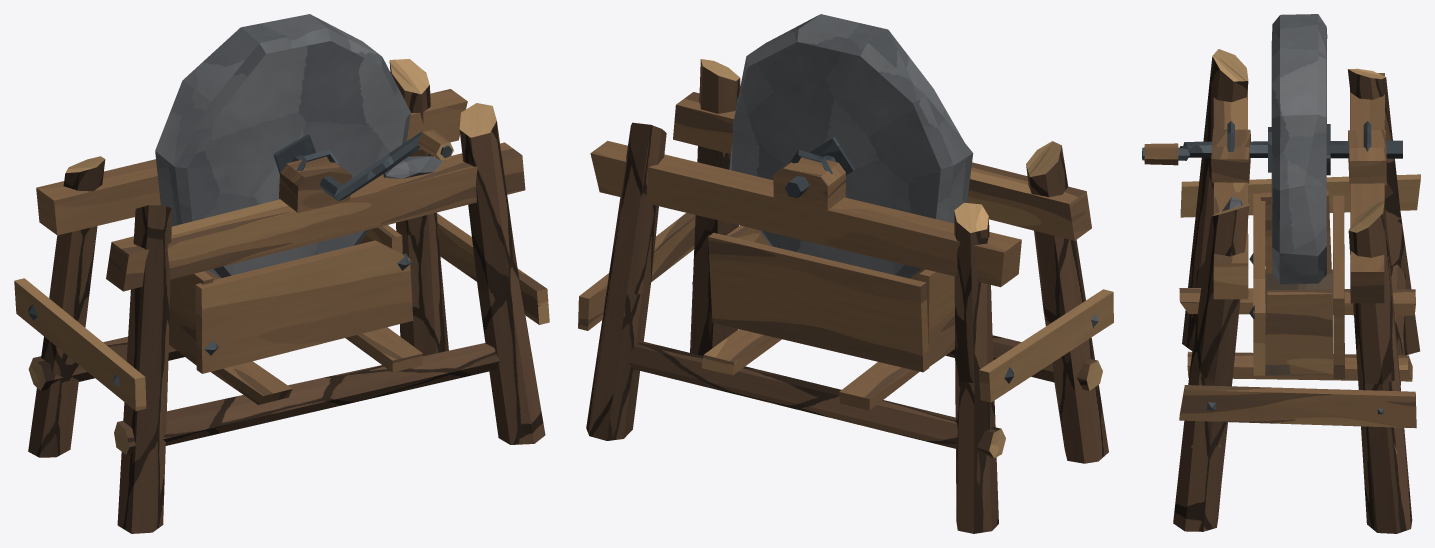
The model's file is SM_GrindingStone.fbx.
3 renders of one model, left to right at view 1: azimuth 30°, elevation 25°; view 2: azimuth 150°, elevation 25°; view 3: azimuth 270°, elevation 25°, orthographic. The views are drawn at different scales.
Visible parts, largest first — view 1: SM_GrindingStone; view 2: SM_GrindingStone; view 3: SM_GrindingStone.
Boxes of the visible parts, x1,y1,x2,y2 form: SM_GrindingStone: (14, 14, 549, 533); SM_GrindingStone: (578, 14, 1113, 533); SM_GrindingStone: (1142, 14, 1420, 533).
Bounding box in the file's own units: 1.05 × 0.9828 × 0.6133.
